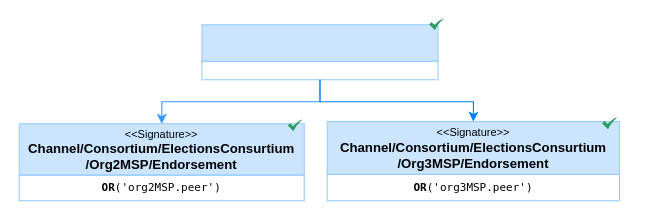
Image size: 655x221. Some labels were removed from this diagram. The shapes that lost their labels are listed below. From the top down, each one's centre as x and y in pixels, then its label:
the point at 319,42: <<ImplicitMeta>> Channel2/Application/Endorsement
the point at 319,70: MAJORITY Endorsement
